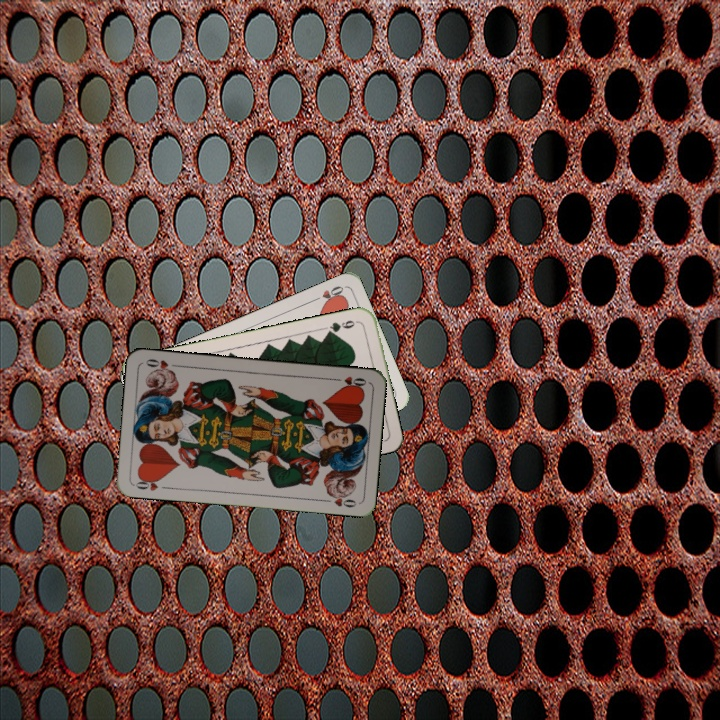G9: (322, 316, 361, 337)
HO: (308, 282, 346, 306), (131, 473, 171, 493), (329, 372, 369, 391)
